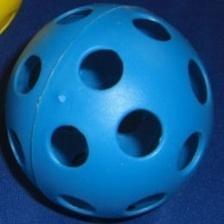Sports-Ball: (4, 5, 214, 220)
